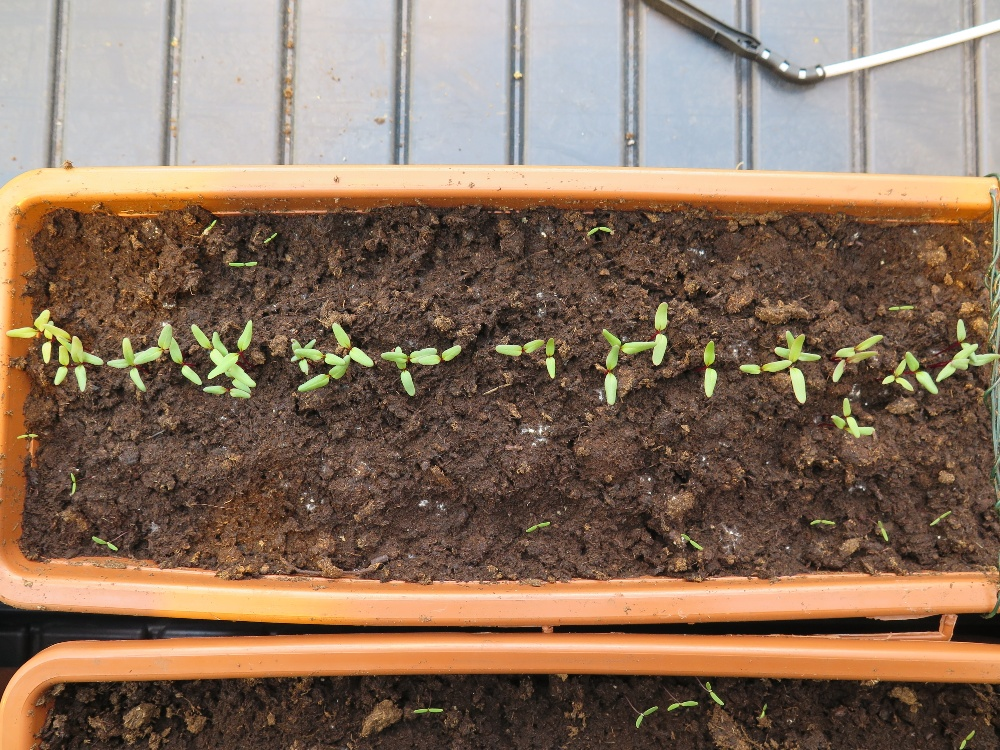crop: (217, 318, 254, 372), (332, 321, 375, 367), (297, 356, 350, 393), (166, 333, 204, 384), (210, 350, 259, 387), (831, 348, 880, 385), (935, 343, 977, 383), (601, 327, 656, 357), (190, 322, 225, 368), (904, 350, 939, 395), (121, 337, 147, 391), (829, 411, 875, 441), (834, 332, 886, 357), (6, 309, 49, 338), (394, 345, 417, 398), (790, 333, 807, 404), (142, 324, 172, 363), (736, 359, 794, 379), (105, 348, 155, 370), (604, 343, 621, 406), (955, 316, 978, 362), (883, 358, 914, 391), (653, 300, 668, 368), (419, 343, 463, 366), (70, 333, 87, 392), (701, 338, 717, 398), (494, 337, 544, 356), (293, 347, 344, 365), (380, 347, 441, 362), (774, 344, 820, 363), (841, 396, 860, 437), (203, 385, 254, 400), (70, 347, 106, 367), (290, 337, 309, 374), (53, 345, 68, 386), (545, 336, 556, 380), (42, 320, 53, 364)
weed: (634, 704, 659, 731), (705, 679, 725, 708), (90, 534, 119, 553), (678, 532, 703, 552), (667, 699, 699, 713), (928, 509, 952, 527), (524, 520, 551, 534), (585, 225, 613, 238), (412, 705, 443, 715), (877, 518, 889, 543), (809, 516, 836, 527), (226, 259, 258, 267), (16, 431, 39, 441), (887, 304, 915, 312), (262, 231, 278, 245), (69, 470, 76, 496), (203, 219, 216, 232)
